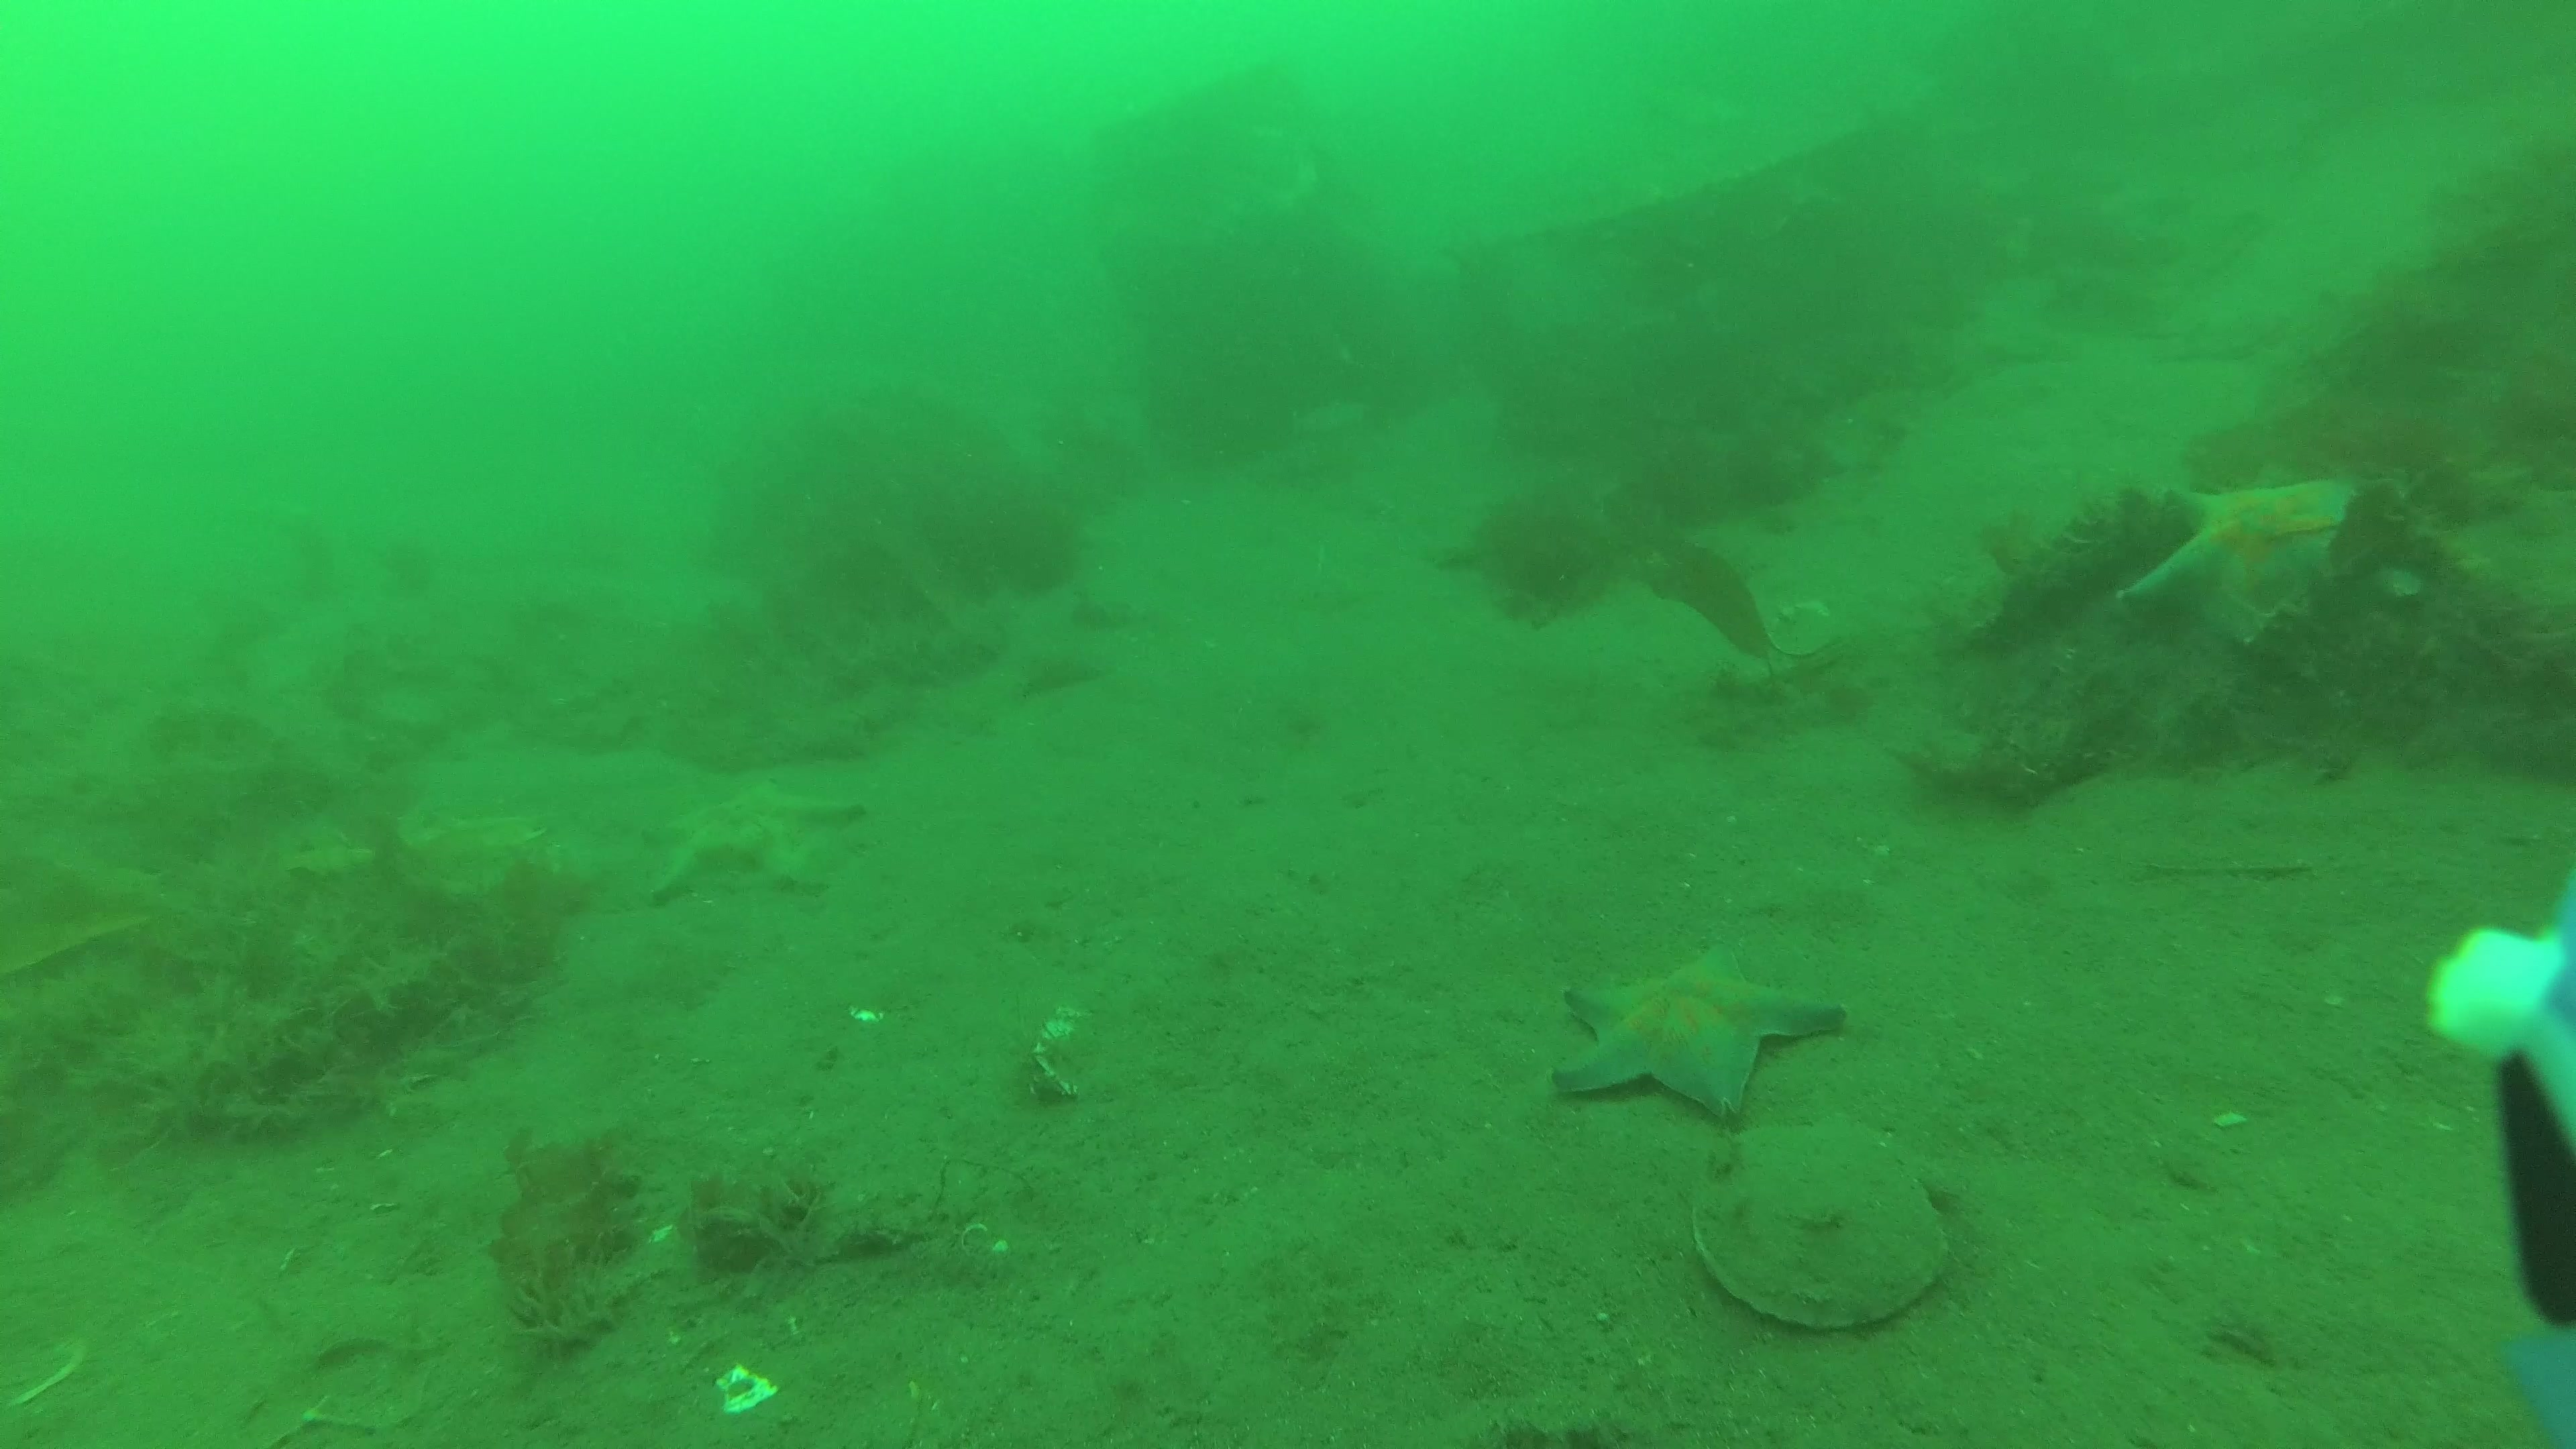scallop: (1693, 1122, 1946, 1330)
starfish: (1555, 950, 1847, 1116), (2121, 478, 2362, 660), (644, 775, 865, 902)
